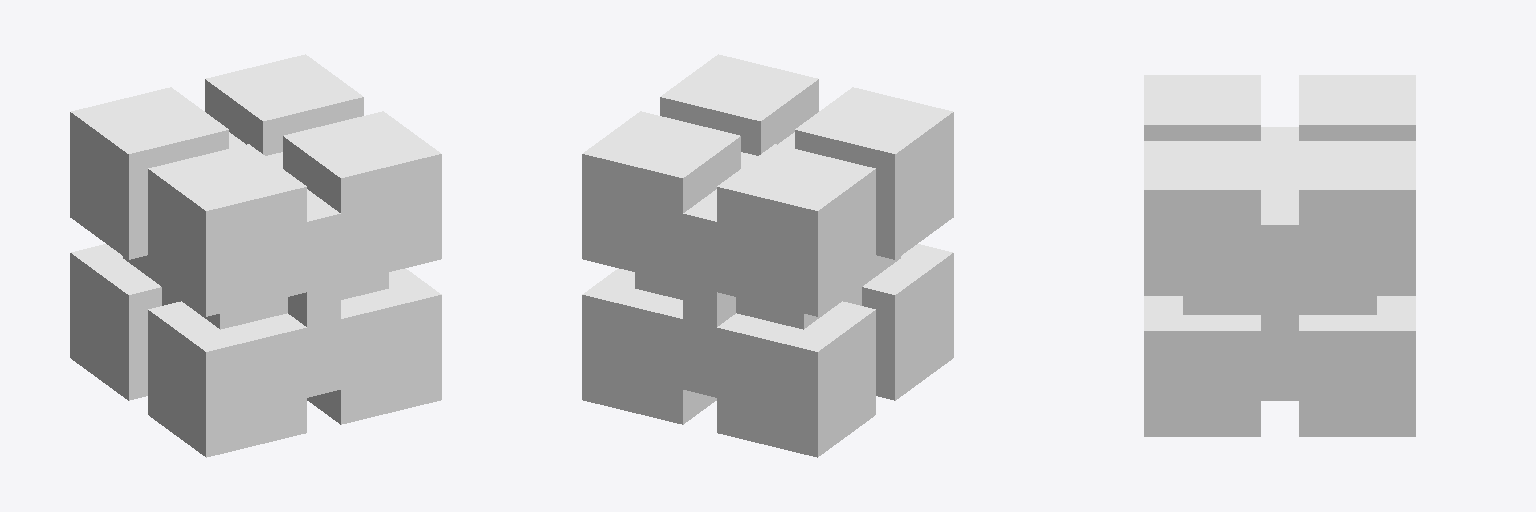
The model's file is blockThreeSides.obj.
The picture shows the model from 3 angles: view 1: azimuth 30°, elevation 25°; view 2: azimuth 150°, elevation 25°; view 3: azimuth 270°, elevation 25°; orthographic projection.
Parts seen in each view (by area): view 1: object 1; view 2: object 1; view 3: object 1.
Boxes of the visible parts, x1,y1,x2,y2 form: object 1: [70, 54, 441, 457]; object 1: [582, 54, 953, 457]; object 1: [1144, 75, 1415, 436].
Bounding box in the file's own units: 0.7 × 0.7 × 0.7.